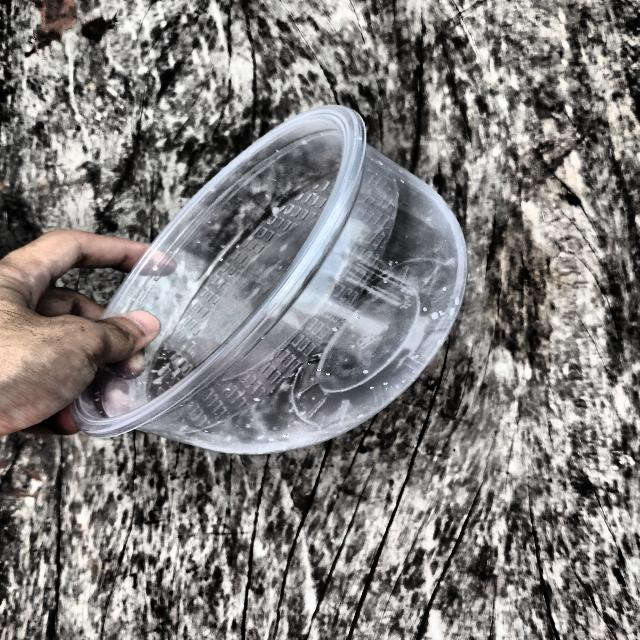plastic container: (41, 96, 488, 480)
